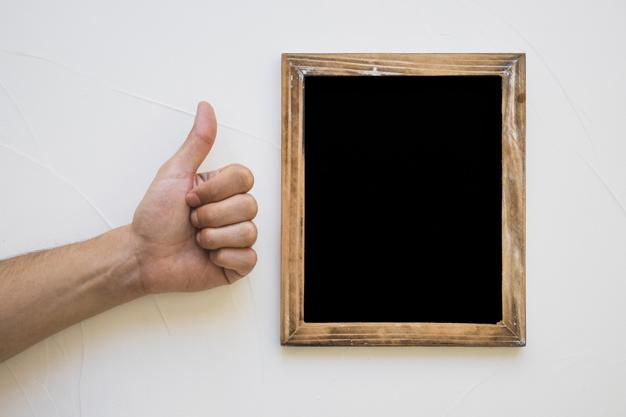thumbsup: (173, 101, 258, 275)
